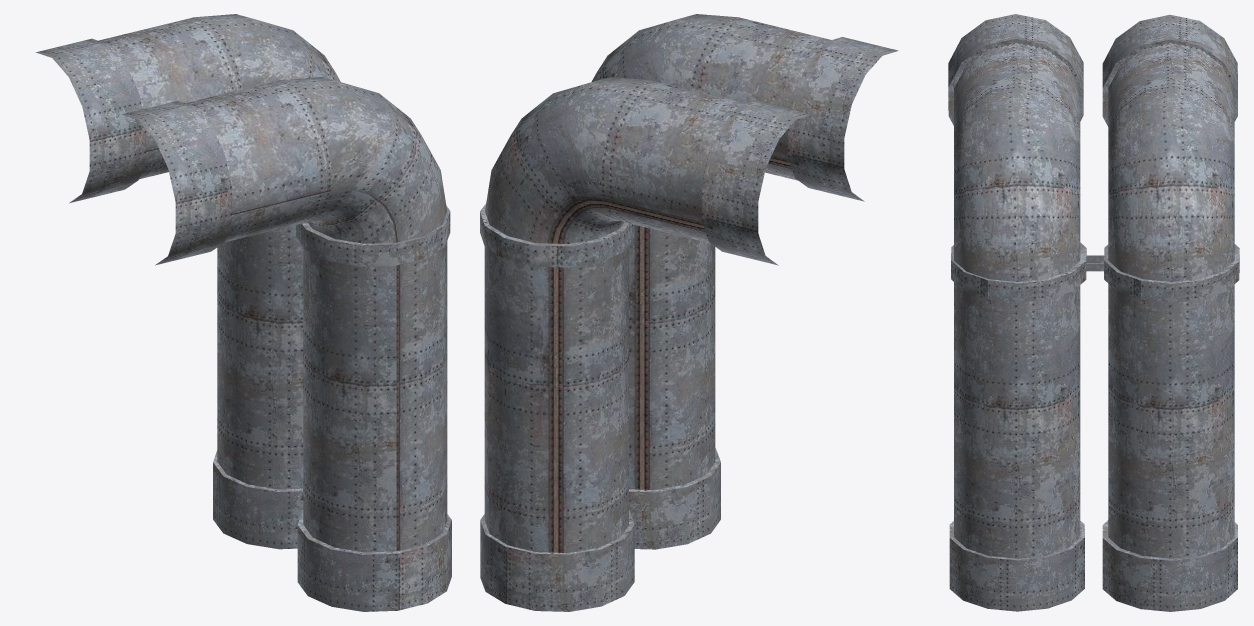
File: pipecluster32d_001a.glb
The picture shows the model from 3 angles, left to right: view 1: azimuth 30°, elevation 25°; view 2: azimuth 150°, elevation 25°; view 3: azimuth 270°, elevation 25°; orthographic projection. The views are drawn at different scales.
Parts seen in each view (by area): view 1: 0_pipeset_metal02; view 2: 0_pipeset_metal02; view 3: 0_pipeset_metal02.
Part boxes in pixels (<box>): 0_pipeset_metal02: <box>36,14,451,611</box>; 0_pipeset_metal02: <box>480,14,898,611</box>; 0_pipeset_metal02: <box>948,14,1239,611</box>.
Size of the model in its own units: 1.98 by 3.21 by 1.83.
Materials: 1 (1 with a texture image).
